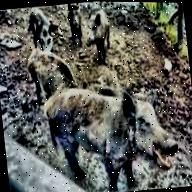boar: (25, 69, 192, 192)
